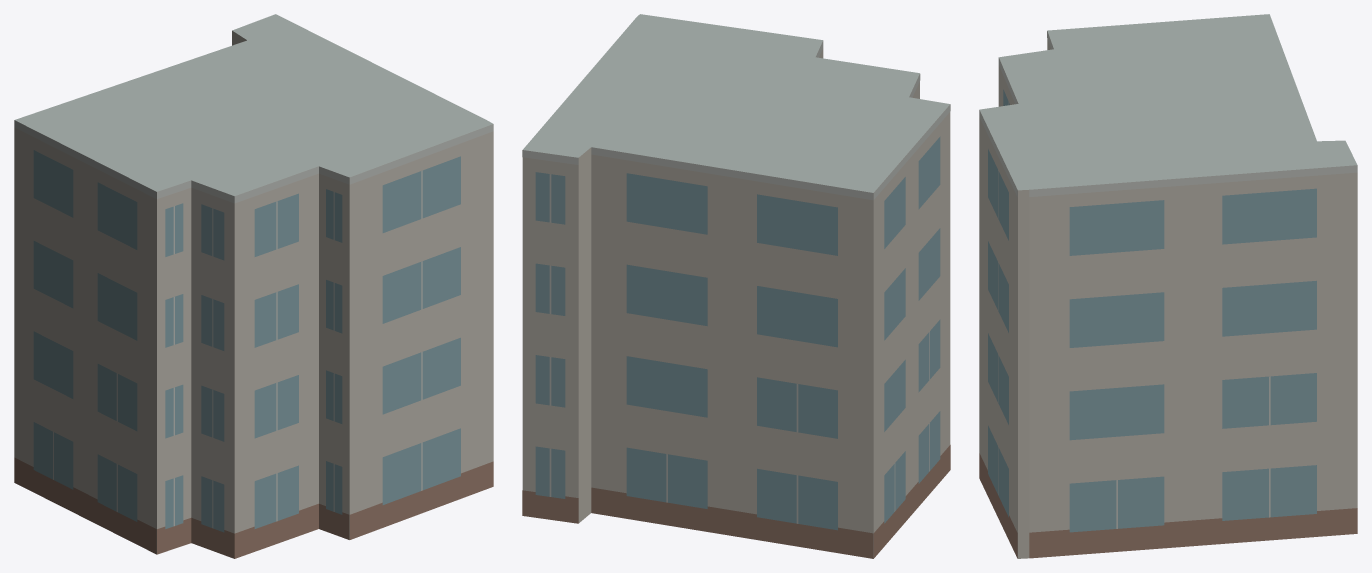
The model's file is survey-upis-32617872.glb.
3 renders of one model, left to right at view 1: azimuth 30°, elevation 25°; view 2: azimuth 150°, elevation 25°; view 3: azimuth 270°, elevation 25°, orthographic.
Parts seen in each view (by area): view 1: survey-upis-32617872.tmp; view 2: survey-upis-32617872.tmp; view 3: survey-upis-32617872.tmp.
Part boxes in pixels (bbox=[...]): survey-upis-32617872.tmp: bbox=[14, 14, 493, 558]; survey-upis-32617872.tmp: bbox=[522, 14, 950, 558]; survey-upis-32617872.tmp: bbox=[979, 14, 1357, 558].
Size of the model in its own units: 12.52 by 12.2 by 11.35.
